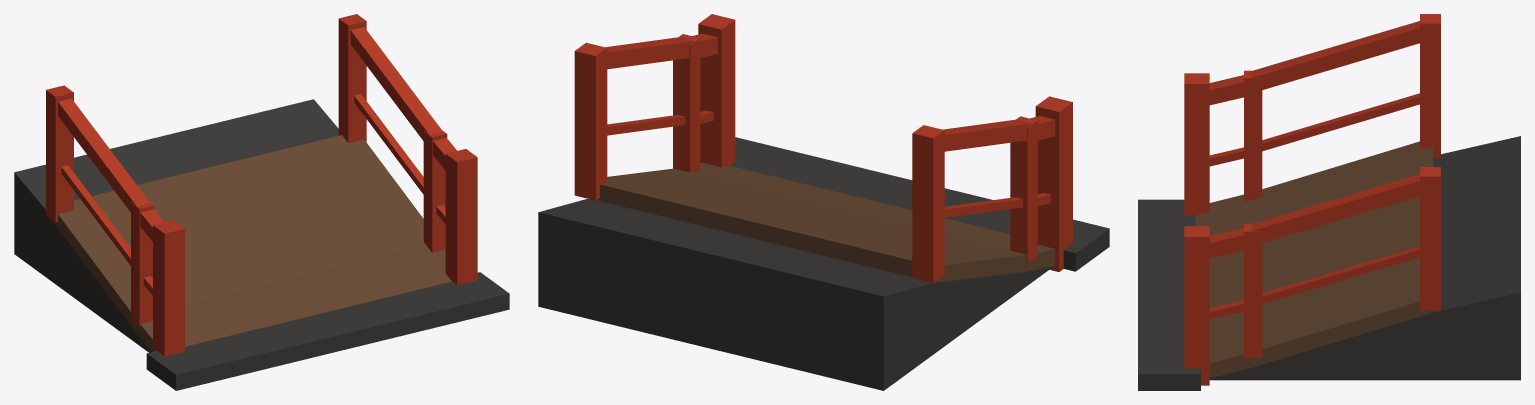
The model's file is japan_kit17_moonbridge_end3.fbx.
3 renders of one model, left to right at view 1: azimuth 30°, elevation 25°; view 2: azimuth 150°, elevation 25°; view 3: azimuth 270°, elevation 25°, orthographic. The views are drawn at different scales.
Parts seen in each view (by area): view 1: MB3_Deck, MB3_Stone, MB3_Red; view 2: MB3_Stone, MB3_Red, MB3_Deck; view 3: MB3_Stone, MB3_Red, MB3_Deck.
Boxes of the visible parts, x1,y1,x2,y2 form: MB3_Deck: (52,135,451,351); MB3_Stone: (14,99,509,390); MB3_Red: (46,14,477,356); MB3_Stone: (538,137,1109,390); MB3_Red: (574,14,1072,282); MB3_Deck: (597,163,1055,282); MB3_Stone: (1138,136,1520,390); MB3_Red: (1184,14,1440,385); MB3_Deck: (1195,141,1433,378).
Size of the model in its own units: 9.8 by 5.5 by 9.1.
